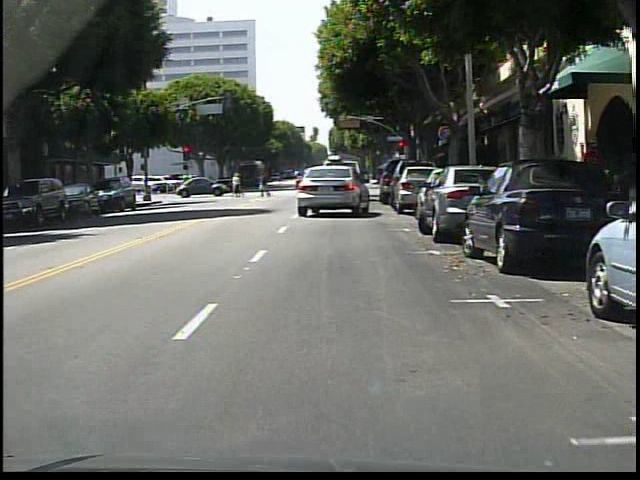person: (580, 142, 609, 219), (232, 172, 246, 197), (260, 170, 272, 198), (262, 174, 268, 191)
